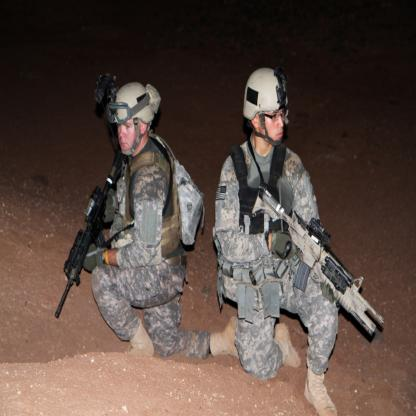Helmet: (108, 82, 159, 156), (242, 69, 286, 146)
